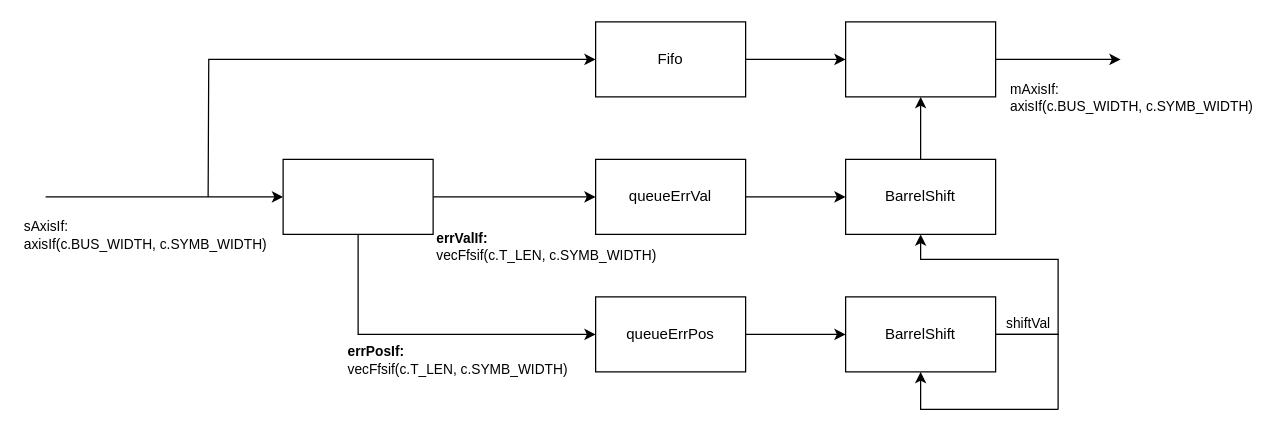
The diagram is 1275 pixels wide and 441 high, and some of its shapes have lost their labels. The centre of each missing label's shape, as x and y in pixels:
"RsDecoder" goes at [357,196].
"XoR" goes at [920,59].
